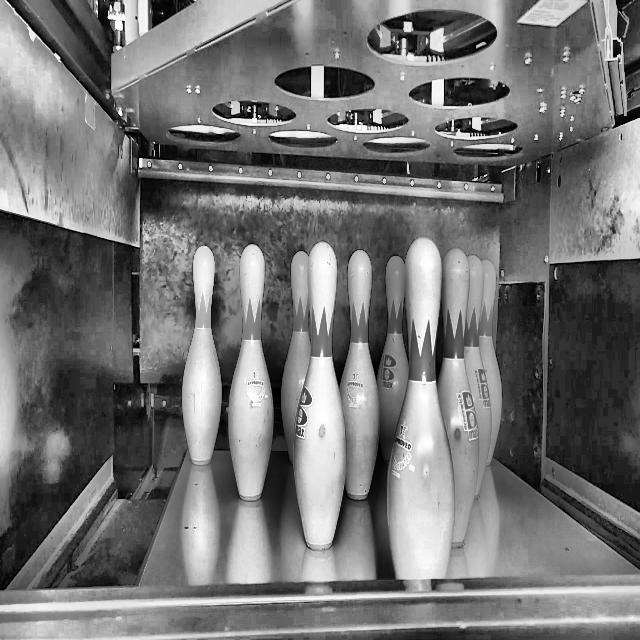bowling-pins: (388, 236, 456, 578), (292, 241, 347, 550), (438, 247, 480, 548), (228, 244, 273, 500), (340, 249, 380, 499), (182, 245, 221, 465), (465, 254, 492, 496), (378, 255, 409, 463), (281, 251, 310, 462), (479, 259, 503, 465)
